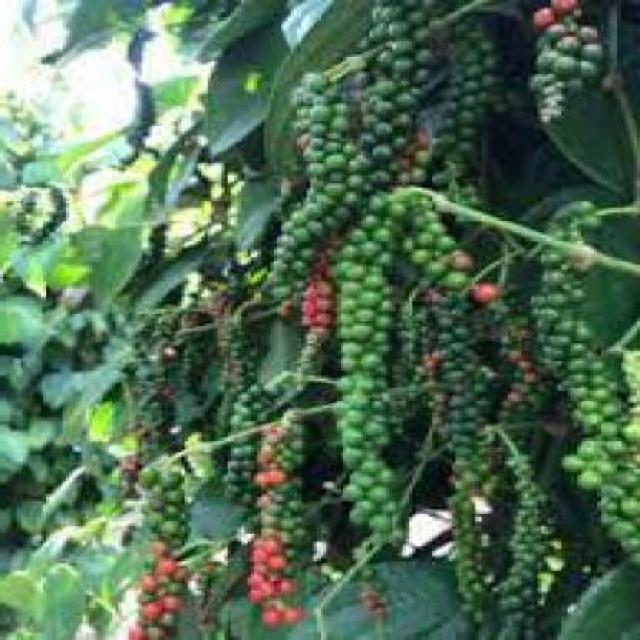RIPE: (251, 517, 311, 625), (135, 557, 188, 638)
UNRIPE: (337, 186, 432, 551), (559, 205, 628, 534), (432, 245, 485, 586), (271, 74, 352, 269), (122, 282, 202, 428), (371, 3, 443, 154), (499, 425, 548, 620)
